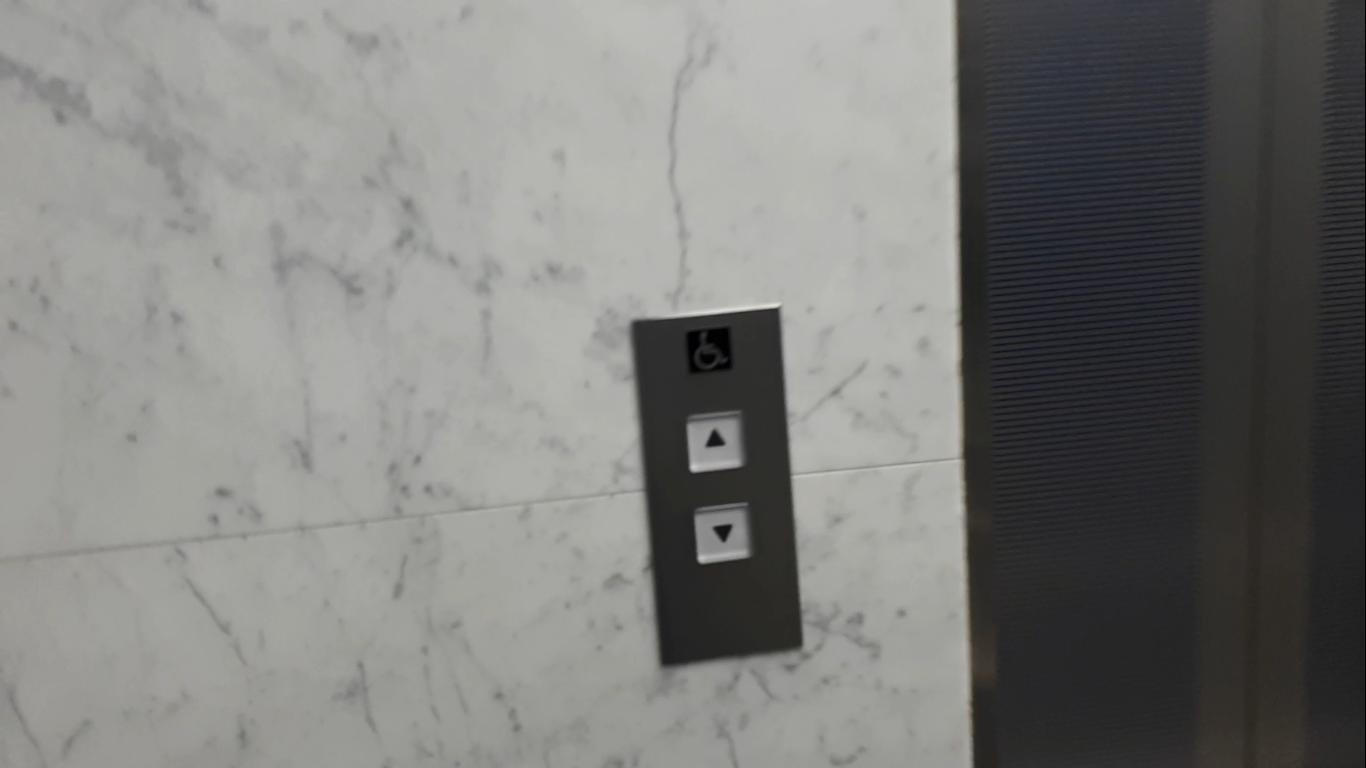CH: (685, 325, 733, 374)
close: (693, 502, 755, 566)
open: (685, 410, 747, 474)
